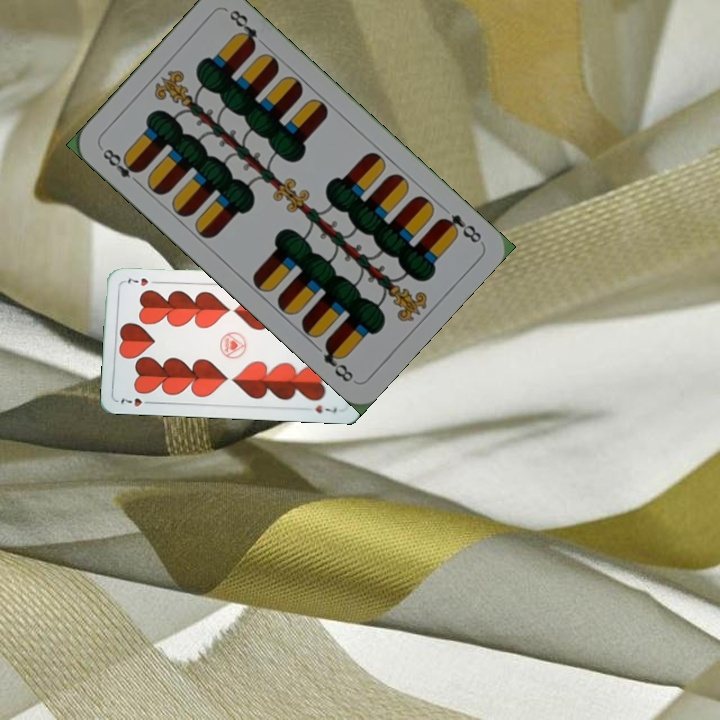E8: (98, 144, 144, 188), (435, 210, 485, 246)
H7: (117, 394, 155, 409)
